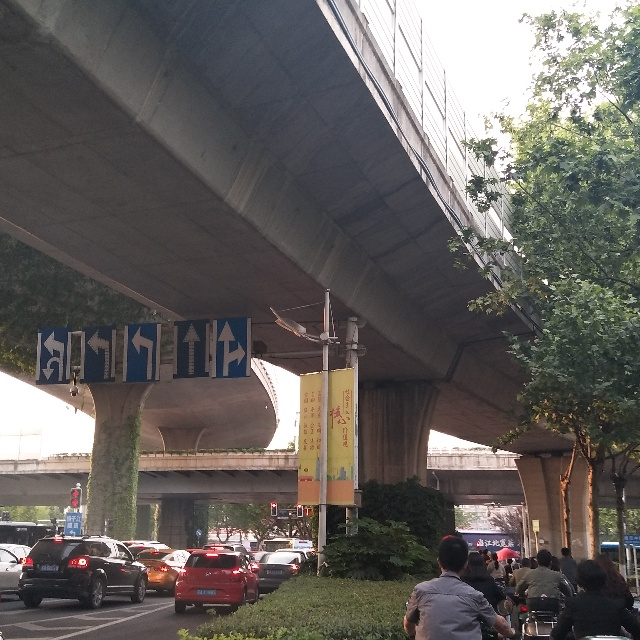left: (77, 323, 117, 385), (125, 323, 162, 385)
straight: (172, 321, 208, 379)
